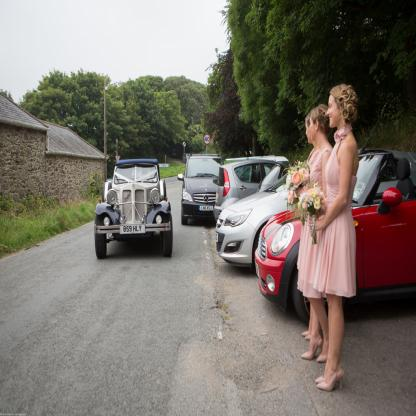Car: (256, 146, 416, 329), (216, 158, 294, 267), (96, 157, 176, 260), (211, 154, 291, 223), (176, 154, 223, 225)
